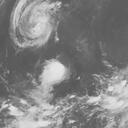cyclone: (8, 0, 60, 49)
